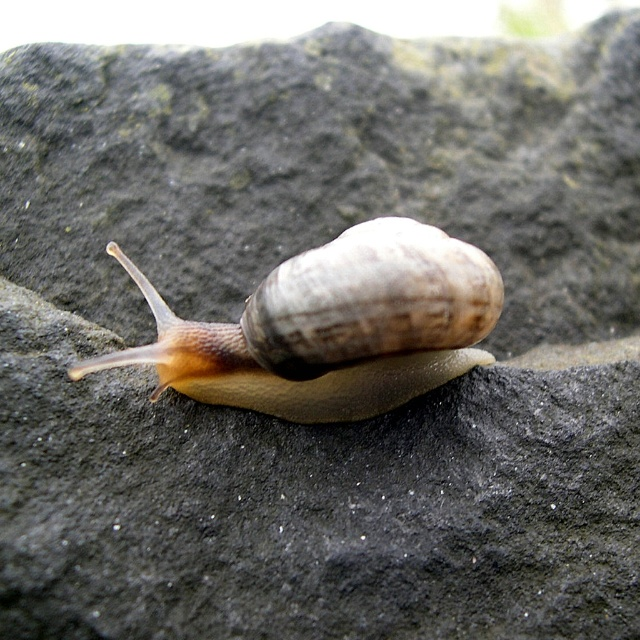Snail: (64, 211, 511, 427)
